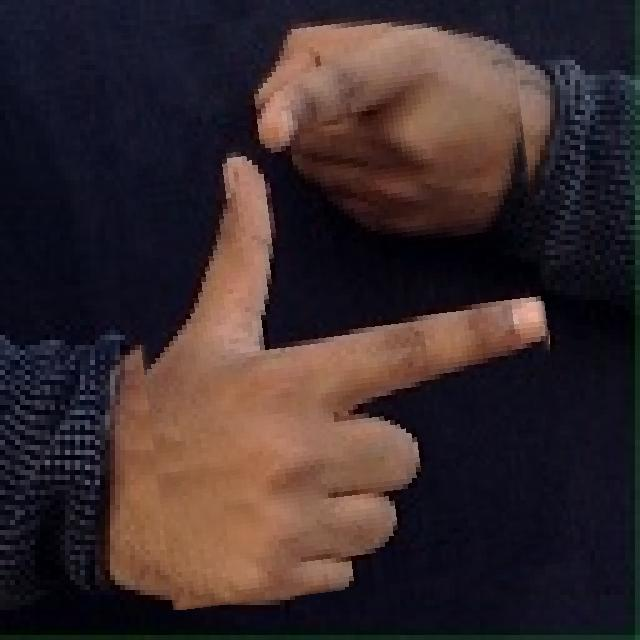J: (120, 0, 559, 599)
